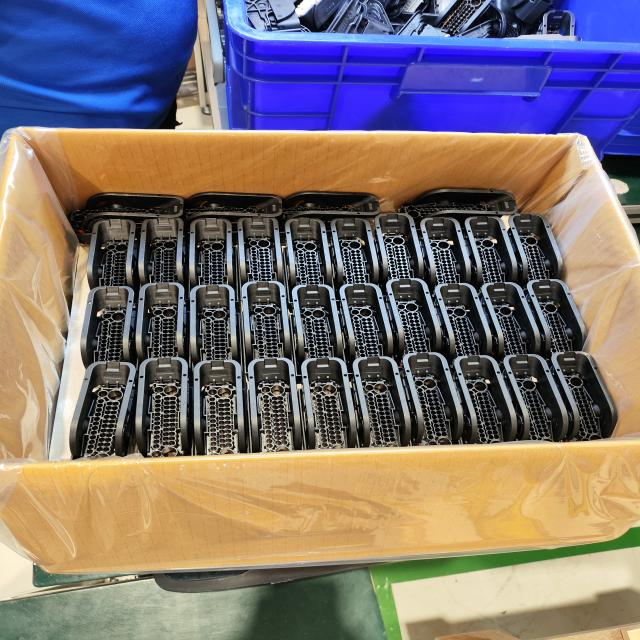P38: (69, 361, 137, 459), (551, 351, 619, 442), (67, 192, 185, 243), (399, 352, 463, 446), (451, 355, 518, 444), (502, 354, 569, 443), (136, 357, 194, 457), (478, 282, 541, 374), (350, 356, 412, 447), (432, 283, 492, 377), (526, 279, 588, 368), (194, 359, 249, 456), (300, 357, 357, 449), (289, 284, 346, 376), (247, 358, 302, 453), (385, 278, 441, 368), (240, 281, 294, 374), (339, 283, 394, 373), (398, 189, 518, 230), (80, 286, 139, 368), (190, 285, 244, 373), (507, 213, 563, 297), (136, 282, 190, 367), (87, 219, 140, 304), (282, 218, 335, 303), (463, 215, 518, 296), (179, 191, 283, 233), (276, 192, 381, 233), (139, 217, 190, 301), (420, 217, 471, 300), (189, 218, 238, 303), (374, 213, 424, 296), (330, 216, 379, 299), (237, 217, 285, 301)
